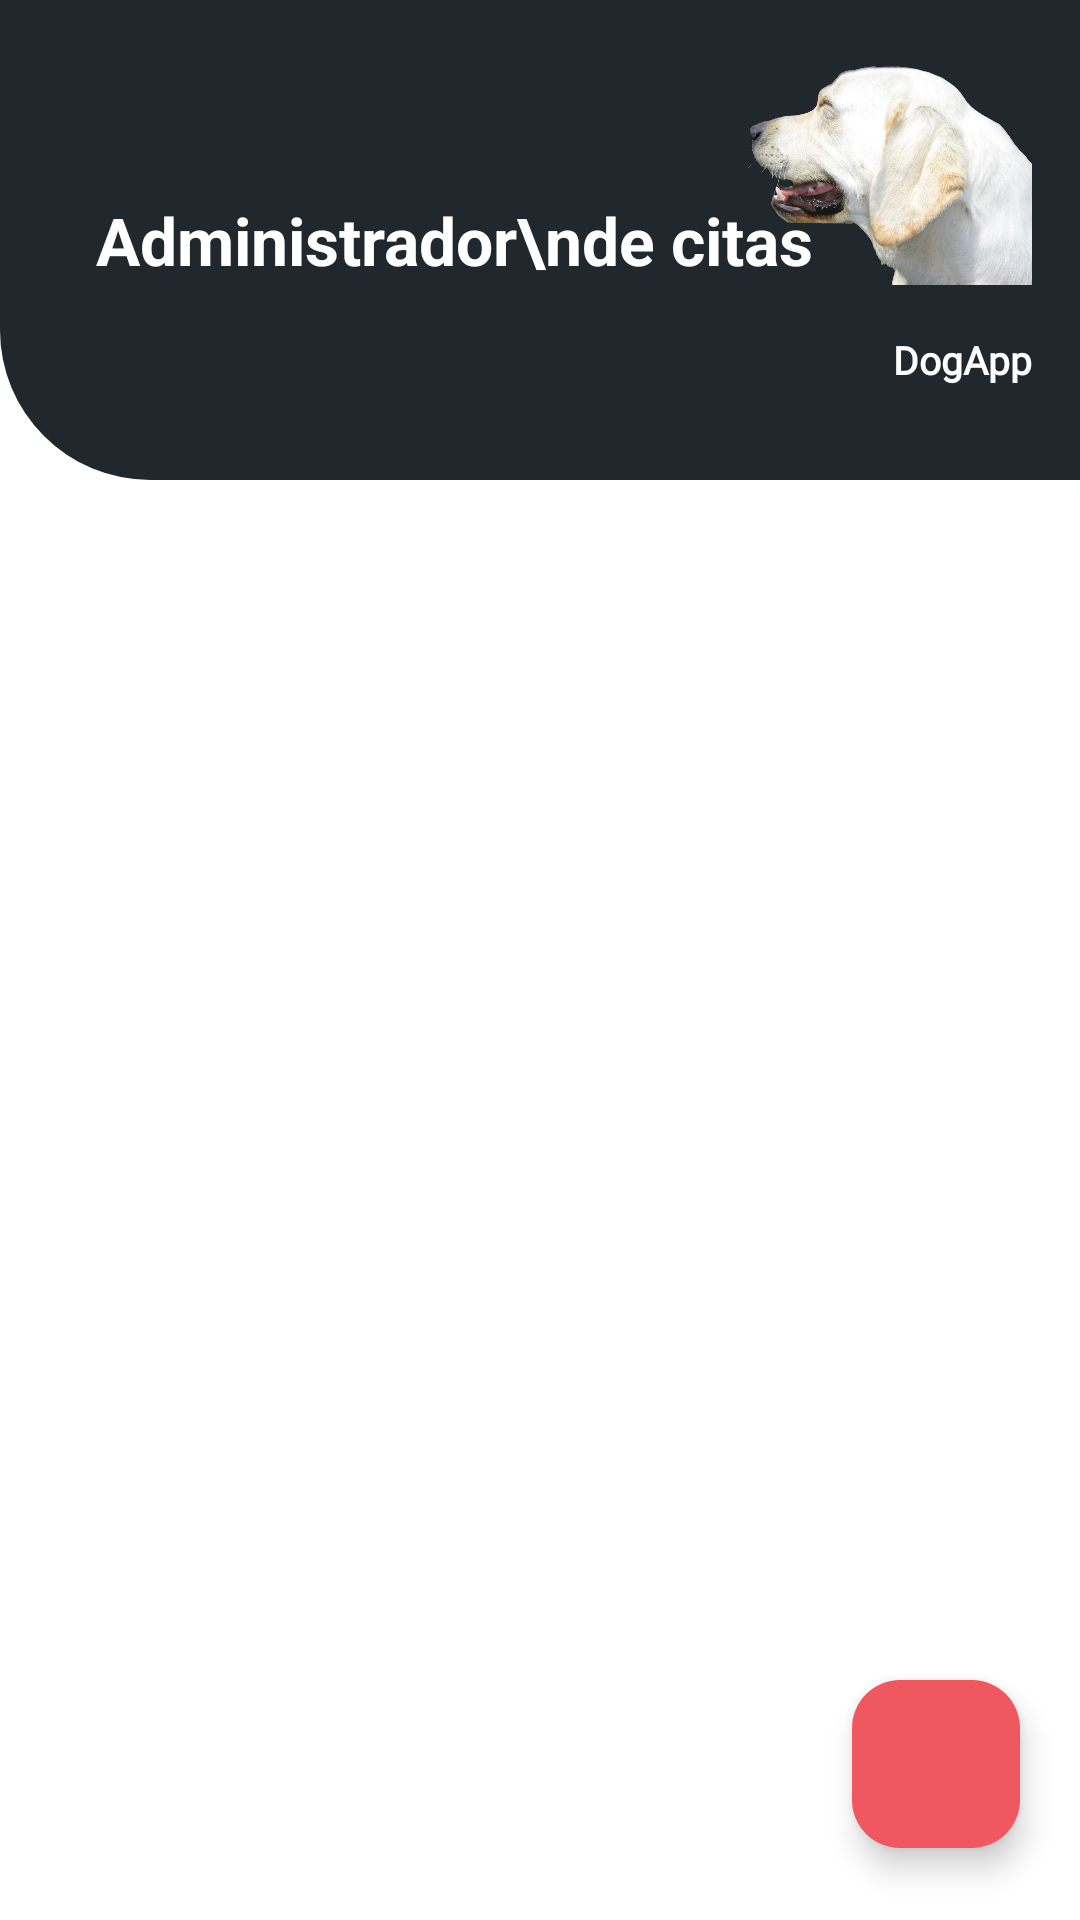

Named icons in this screenshot (1080×1920) and their bounding boxes, (x1, y1, x2, y2):
dog head: (747, 66, 1032, 285)
